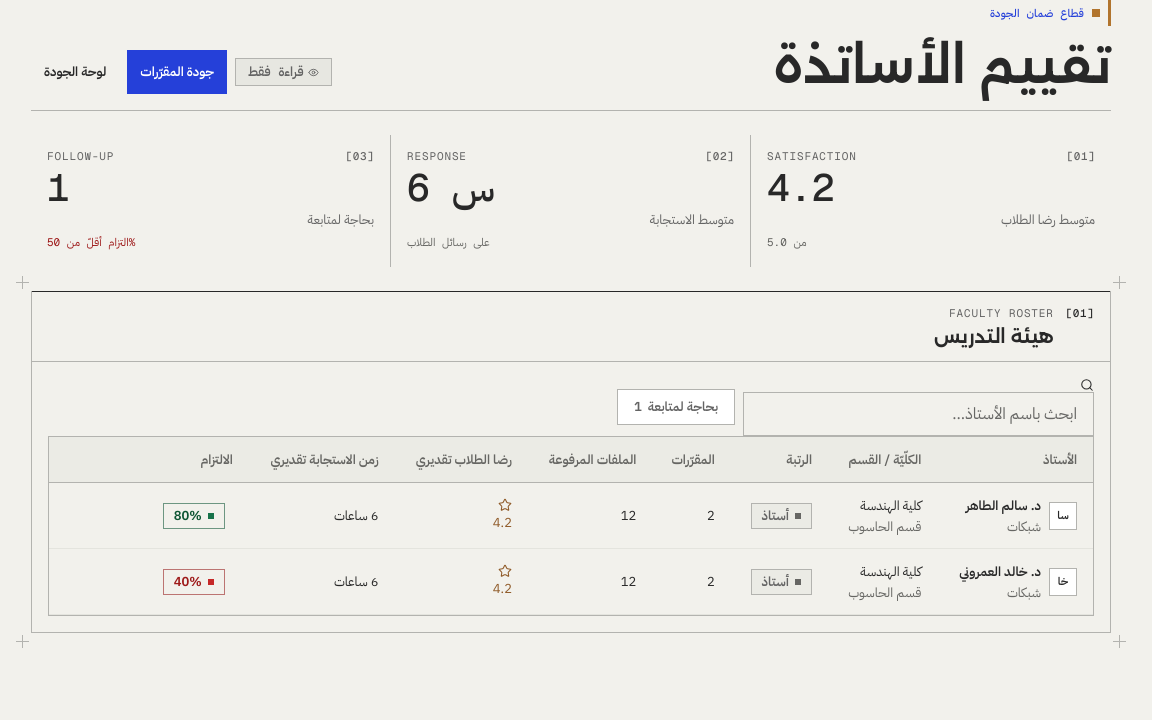
Test: QualityProfessorsPage — «بحاجة لمتابعة» filters the roster (5-B4, 5-A8 §5 row 12) › the KPI acts as a toggle: compliance < 50% roster, badge, and back
The width and height of the screenshot is (1152, 720).
Click the button "بحاجة لمتابعة 1": (676, 407) [617,389,735,425]
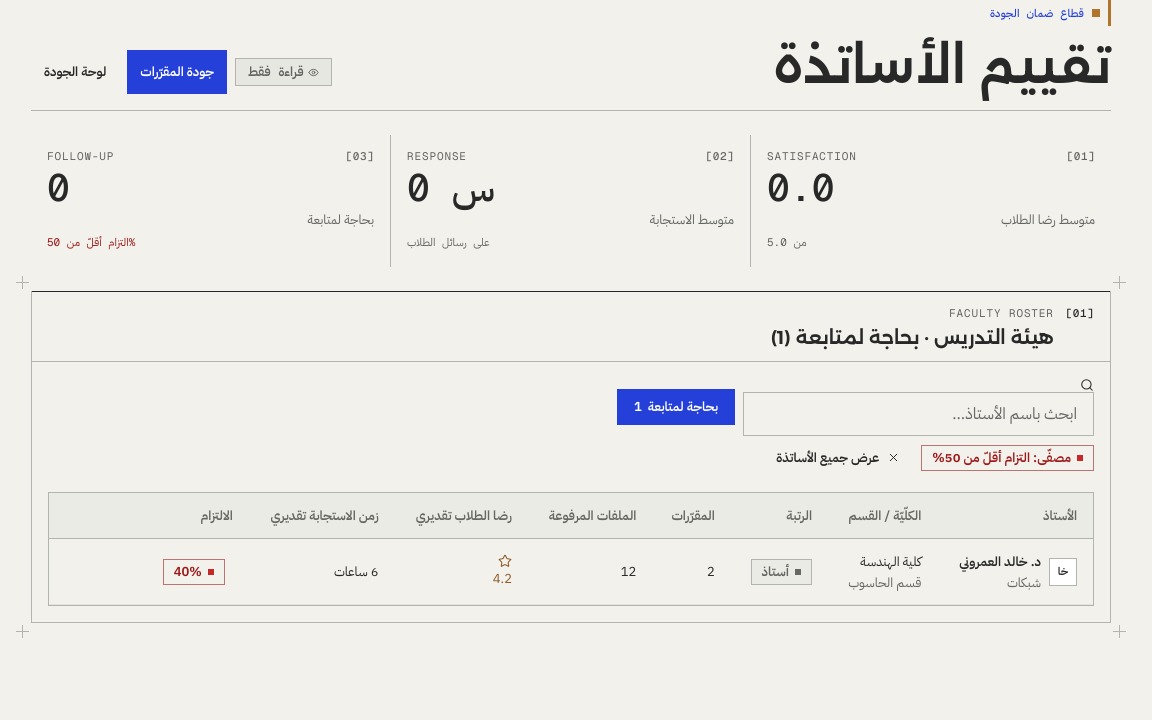
Check: the text "د. خالد العمروني" is shown, box [959,551,1041,573]
Check: the text "سالم" is gone
Check: the text "مصفّى: التزام أقلّ من 50%" is shown, box [921,445,1094,471]
And back — the full roster returns.
Click the button "عرض جميع الأساتذة": (838, 458) [763,436,913,480]
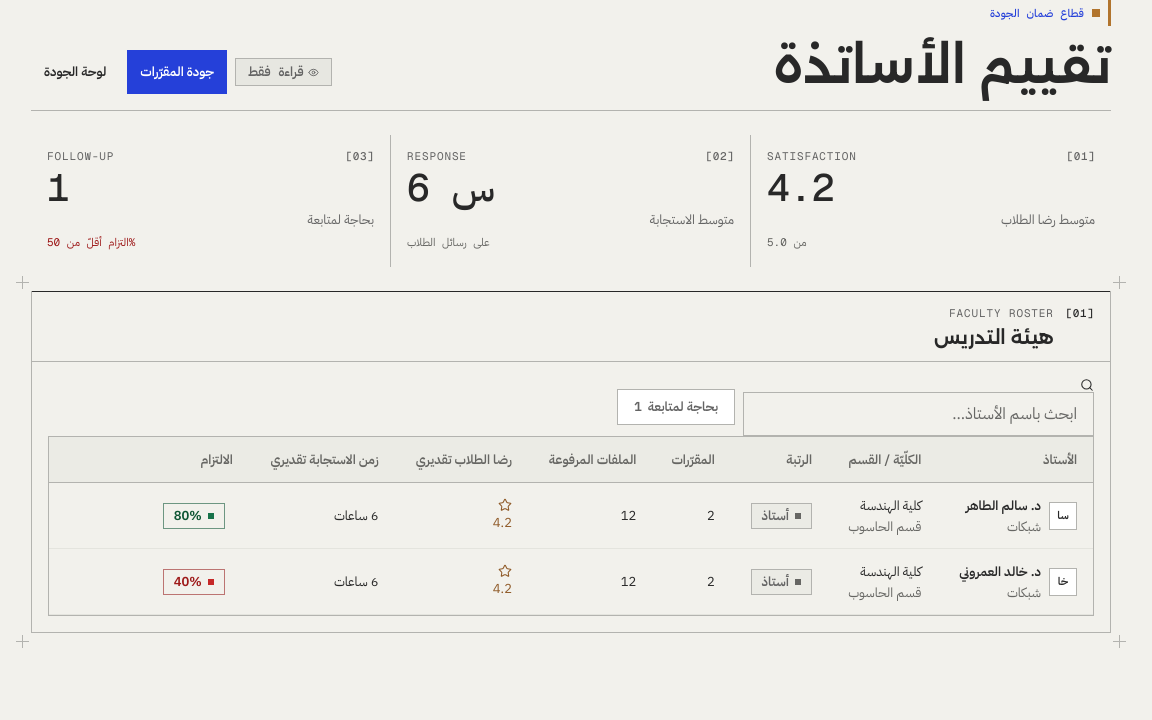
Check: the text "د. سالم الطاهر" is shown, box [966,495,1041,517]
